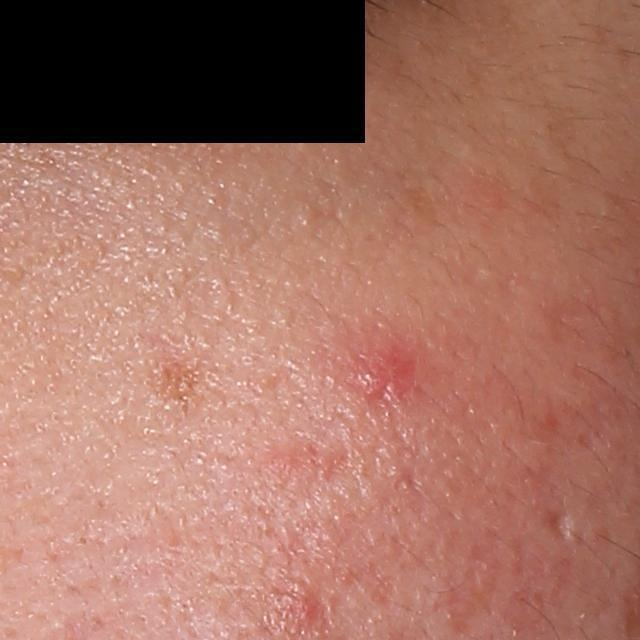atrophic_scar: (540, 507, 570, 541)
papule: (353, 337, 420, 404)
